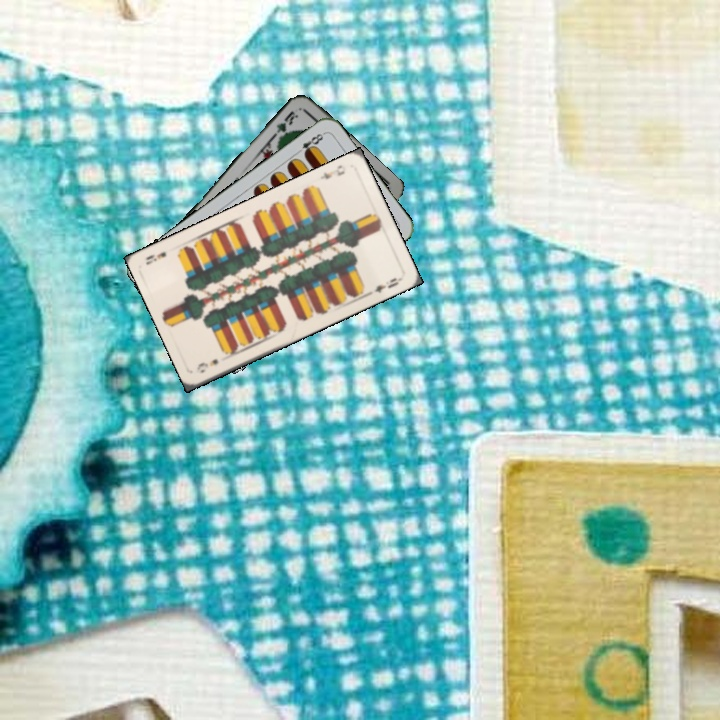E8: (291, 129, 327, 158)
E9: (316, 161, 347, 182), (193, 354, 221, 375)
GK: (269, 107, 301, 143)
